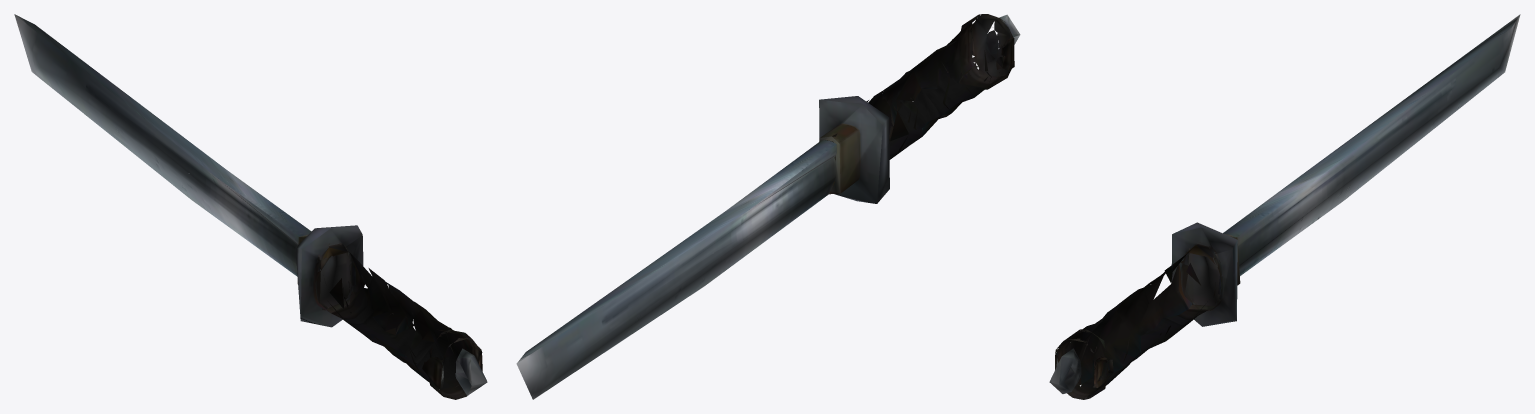
The model's file is ninjato.lod1.glb.
3 renders of one model, left to right at view 1: azimuth 30°, elevation 25°; view 2: azimuth 150°, elevation 25°; view 3: azimuth 330°, elevation 25°, orthographic. The views are drawn at different scales.
Visible parts, largest first — view 1: main; view 2: main; view 3: main.
Part boxes in pixels (left/top/right/bottom): main: left=14, top=14, right=487, bottom=399; main: left=516, top=14, right=1020, bottom=399; main: left=1049, top=14, right=1520, bottom=399.
Size of the model in its own units: 0.0704 by 0.1042 by 0.8919.
3 materials, 3 textured.
